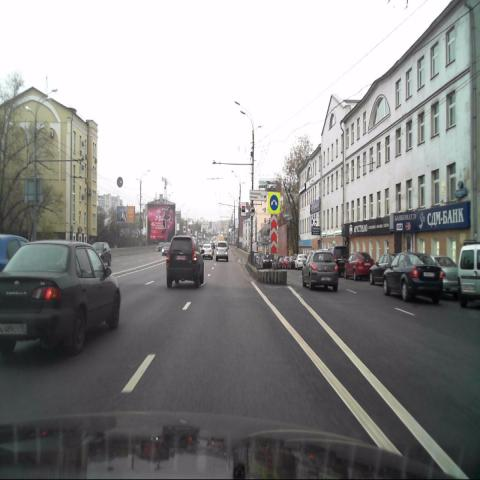4_2_3: (268, 192, 280, 213)
